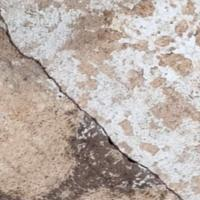crack: (0, 13, 183, 200)
